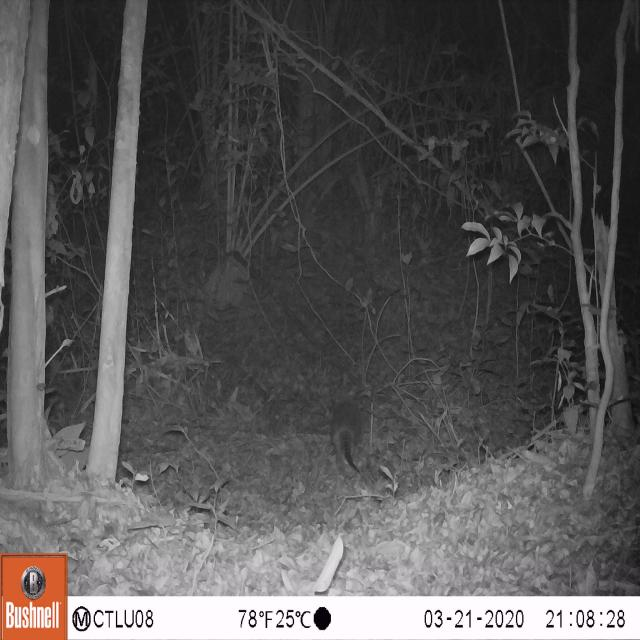Armadillo: (320, 391, 373, 476)
